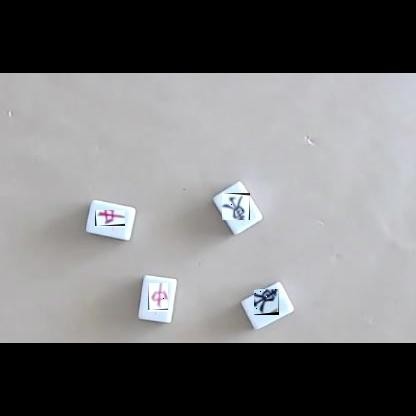1z: (222, 193, 250, 220), (255, 289, 284, 315)
7z: (148, 284, 168, 315), (95, 211, 125, 231)
